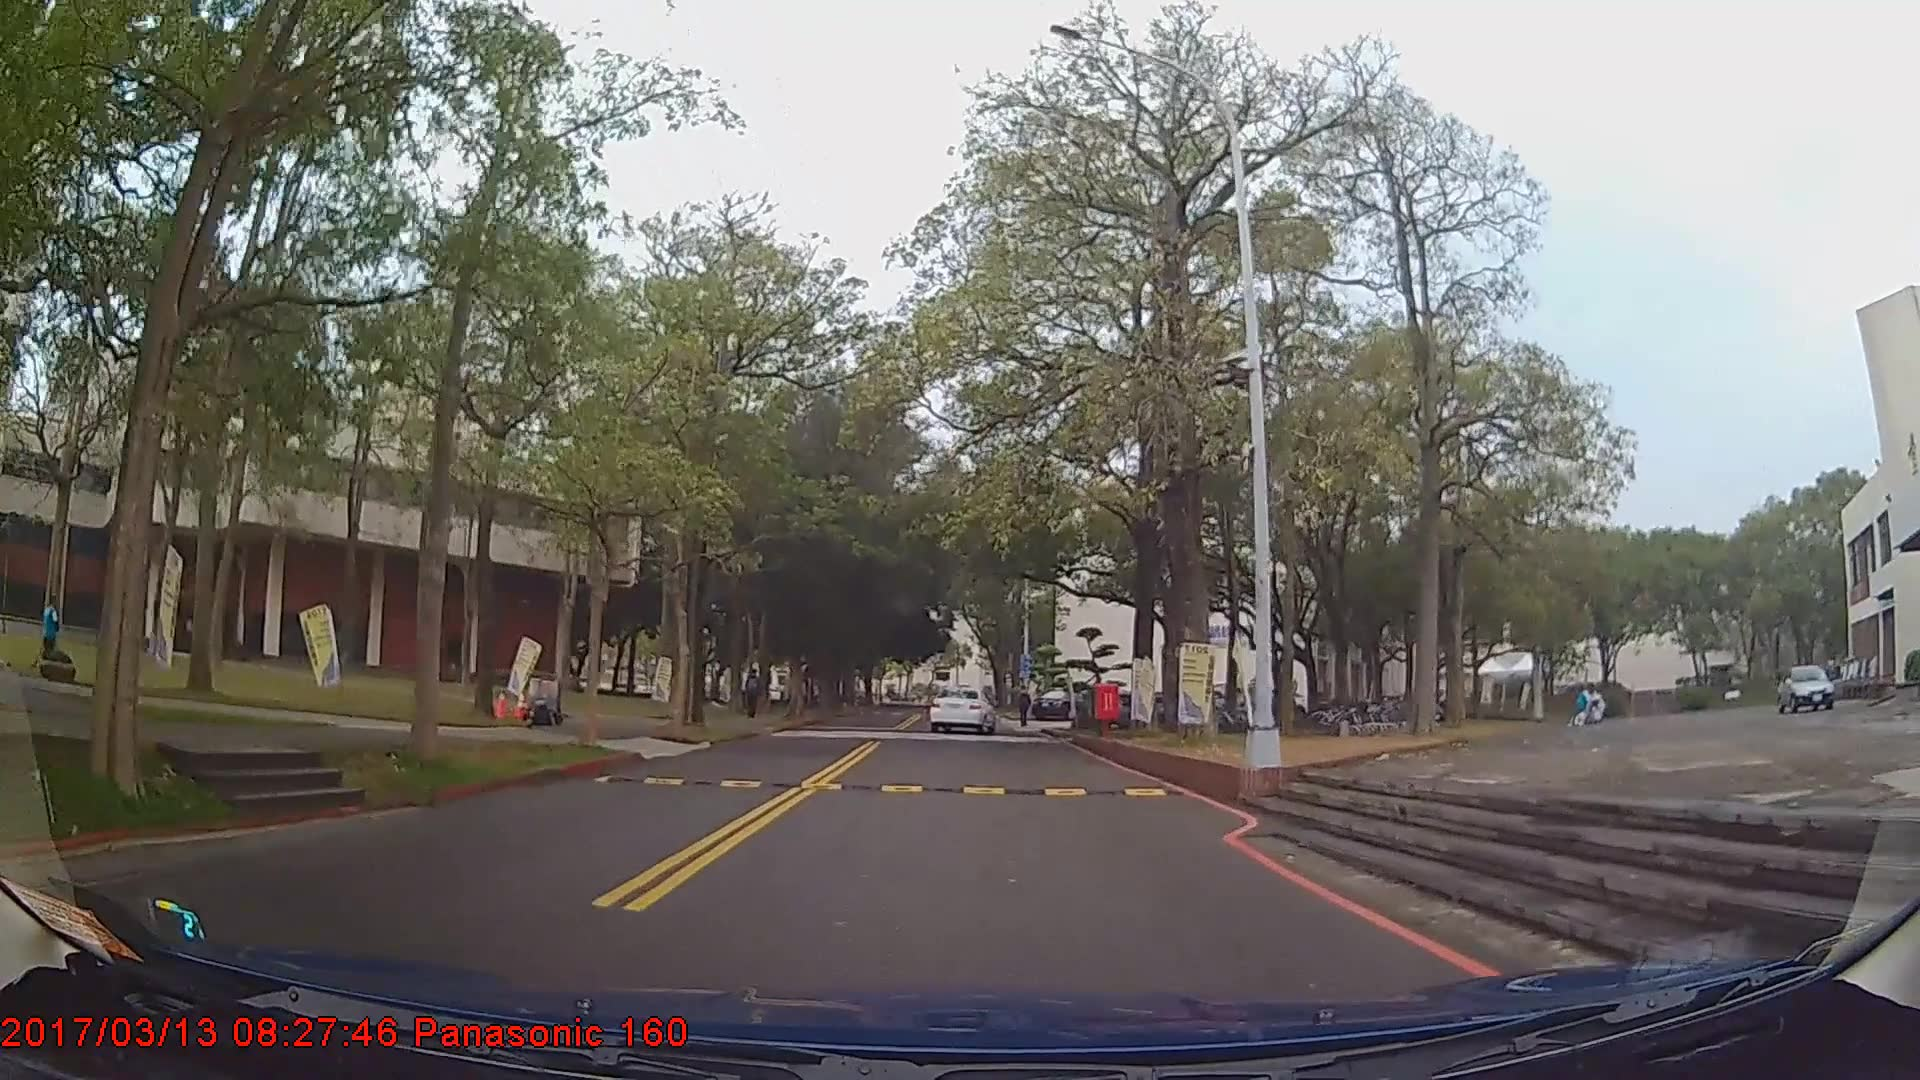pedestrian: (39, 596, 65, 675), (742, 667, 764, 719)
vehicle: (1773, 659, 1846, 713), (929, 684, 995, 734), (1032, 690, 1087, 722)
